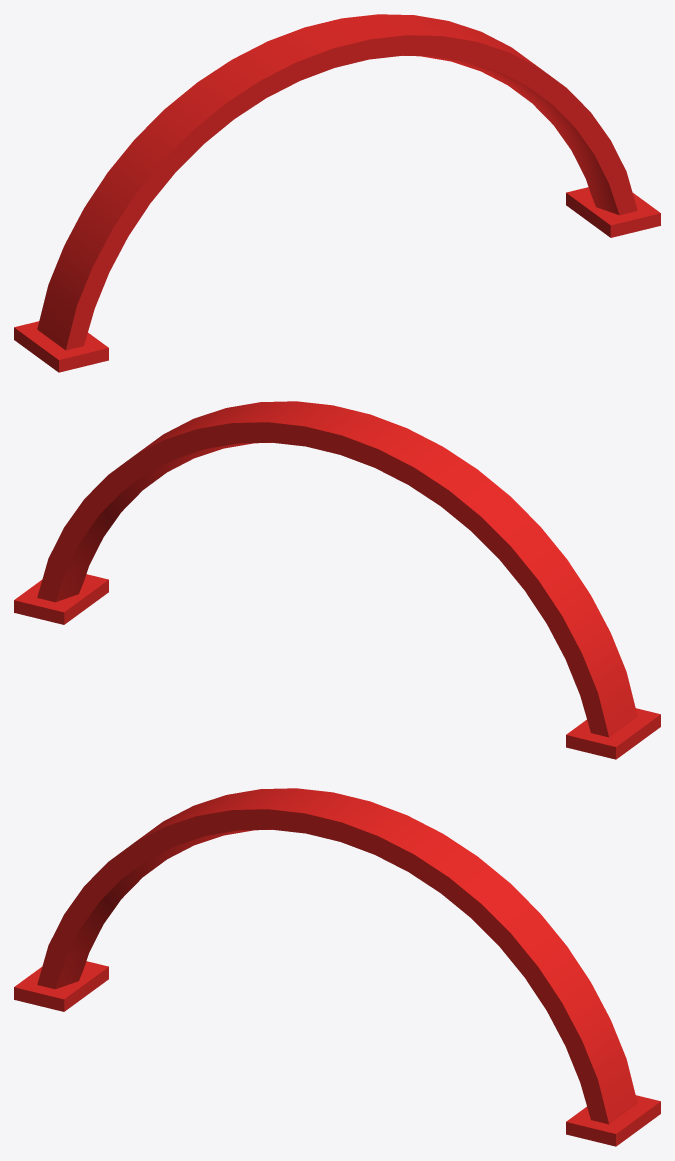
Rendered from arka.fbx.
3 renders of one model, top to bottom at view 1: azimuth 30°, elevation 25°; view 2: azimuth 150°, elevation 25°; view 3: azimuth 330°, elevation 25°, orthographic.
Visible parts, largest first — view 1: Arch_01_free; view 2: Arch_01_free; view 3: Arch_01_free.
Boxes of the visible parts, x1,y1,x2,y2 form: Arch_01_free: (14, 14, 660, 372); Arch_01_free: (14, 401, 660, 759); Arch_01_free: (14, 788, 660, 1146).
Bounding box in the file's own units: 1500 × 594 × 194.
